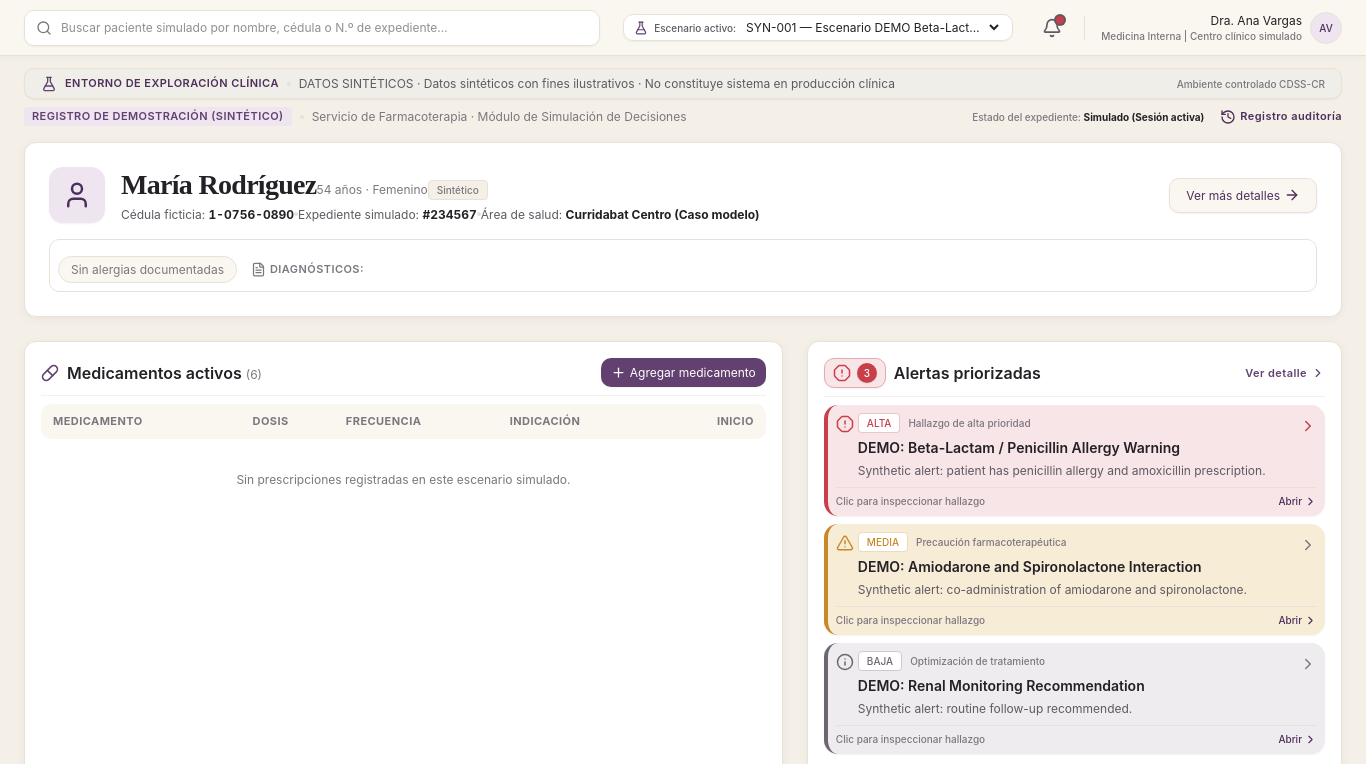
Dashboard Visual Baseline — 1:1 Stitch Converged › Scenario-Driven Alert Rendering & Consistency (Regression) › ensures a scenario with 1+ real findings renders matching card count, badge count, footer count, and pulse
Check: the number of buttons named "seleccionar alerta" is 3, box [824,405,1325,516]; [824,524,1325,635]; [824,643,1325,754]
Check: the text with test id "alert-count-badge" reads "3", box [864,367,870,379]
Click the button named "abrir detalle de alertas" at (855,373), box [824,358,886,388]
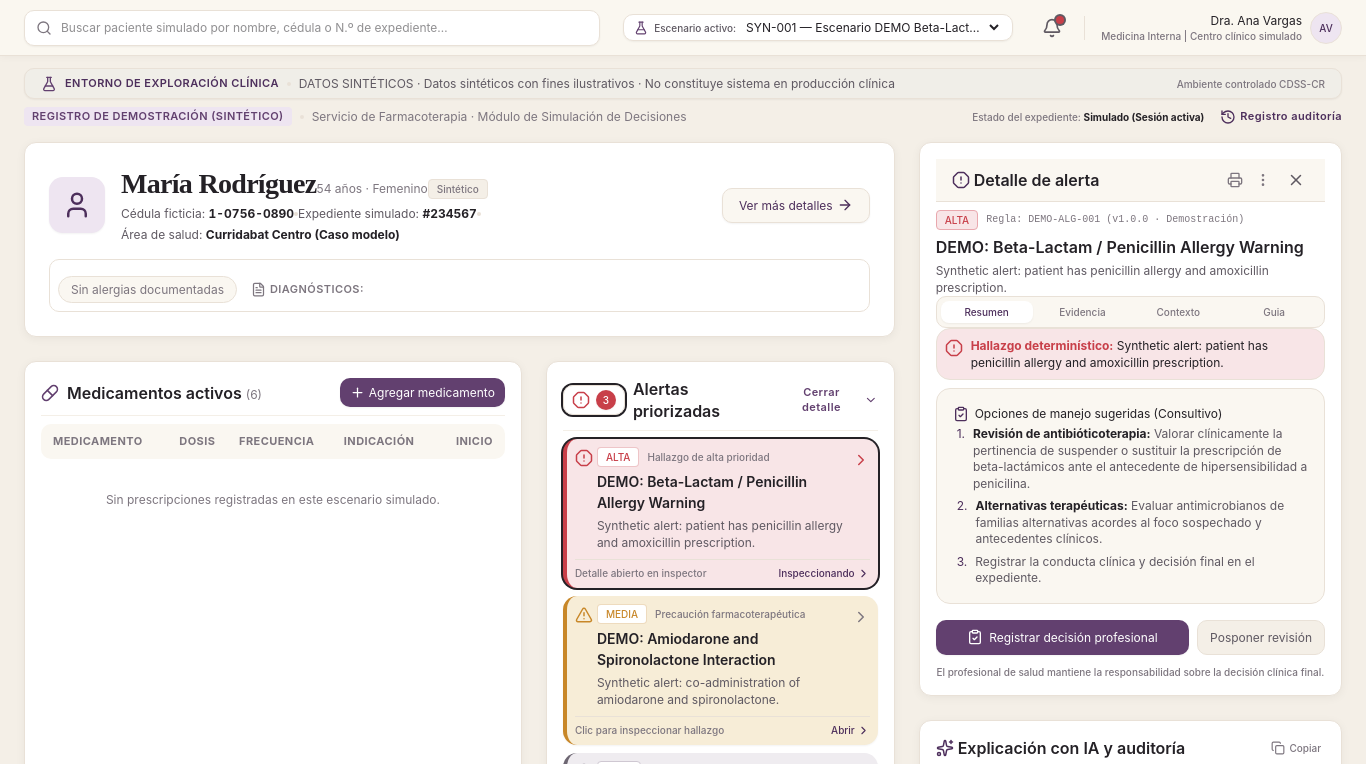
Check: the element named "detalle de alerta clínica" is shown, box [919,142,1342,696]
Check: the element named "detalle de alerta clínica" shows "DEMO: Beta-Lactam / Penicillin Allergy Warning", box [936,237,1304,257]
